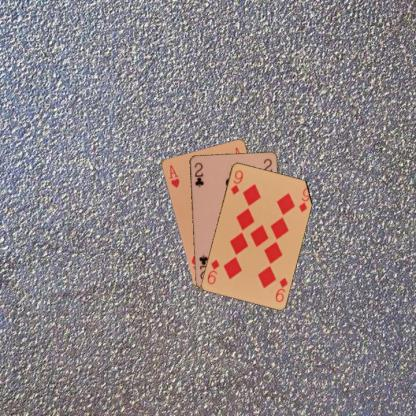2c: (192, 160, 204, 188)
9d: (228, 167, 244, 196), (273, 275, 289, 303)
Ah: (166, 162, 180, 189)
